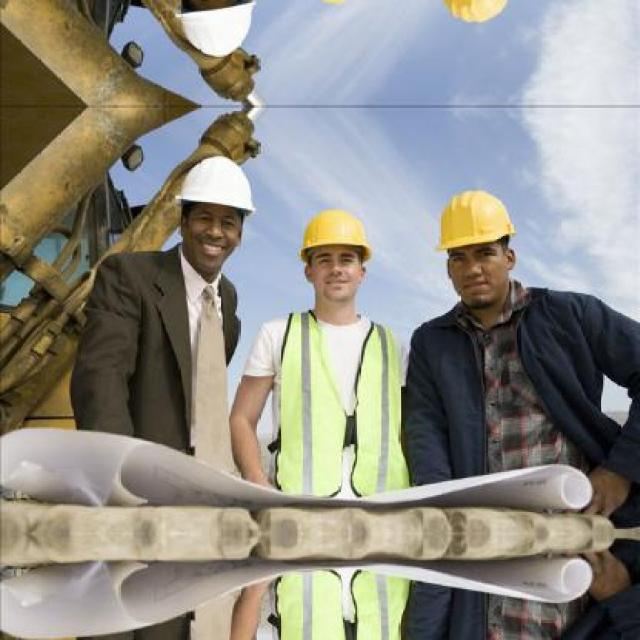helmet: (417, 171, 528, 315), (162, 138, 266, 272), (291, 191, 377, 319), (162, 0, 266, 76), (417, 0, 529, 42)
